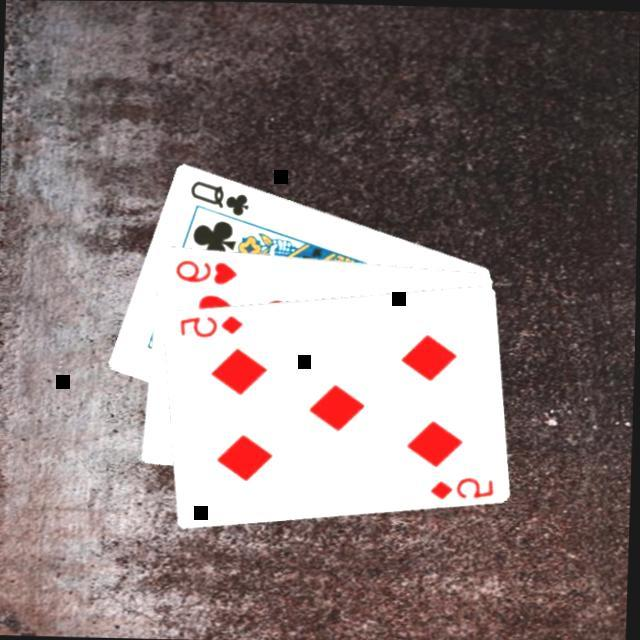5D: (176, 307, 246, 338), (426, 470, 496, 500)
9H: (170, 252, 240, 284)
QC: (185, 174, 252, 215)
